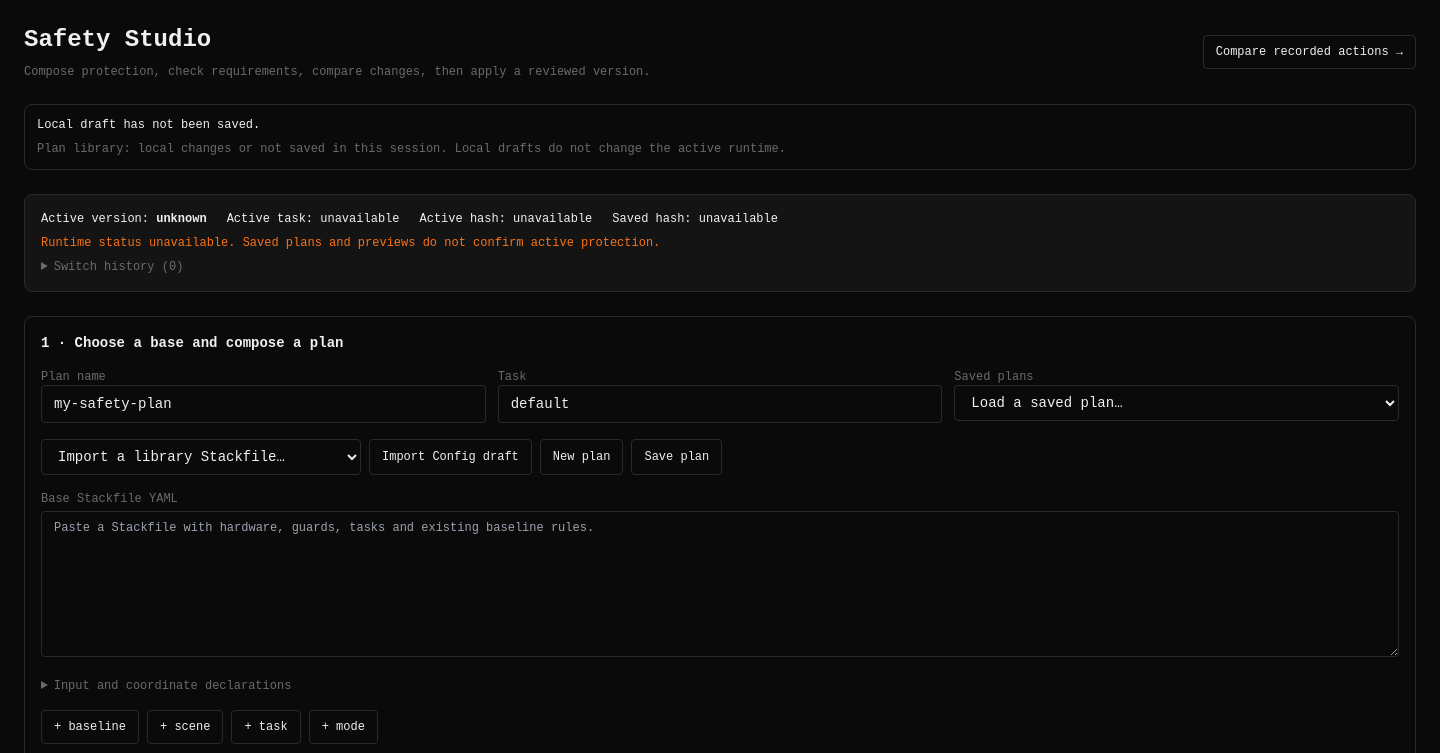
Test case: storage failures preserve in-memory edits and retry saves the latest version
Replace the text in the text box labelled "Base Stackfile YAML" with "version: \"1\"" at (720, 584), box x1=41 y1=511 x2=1399 y2=657
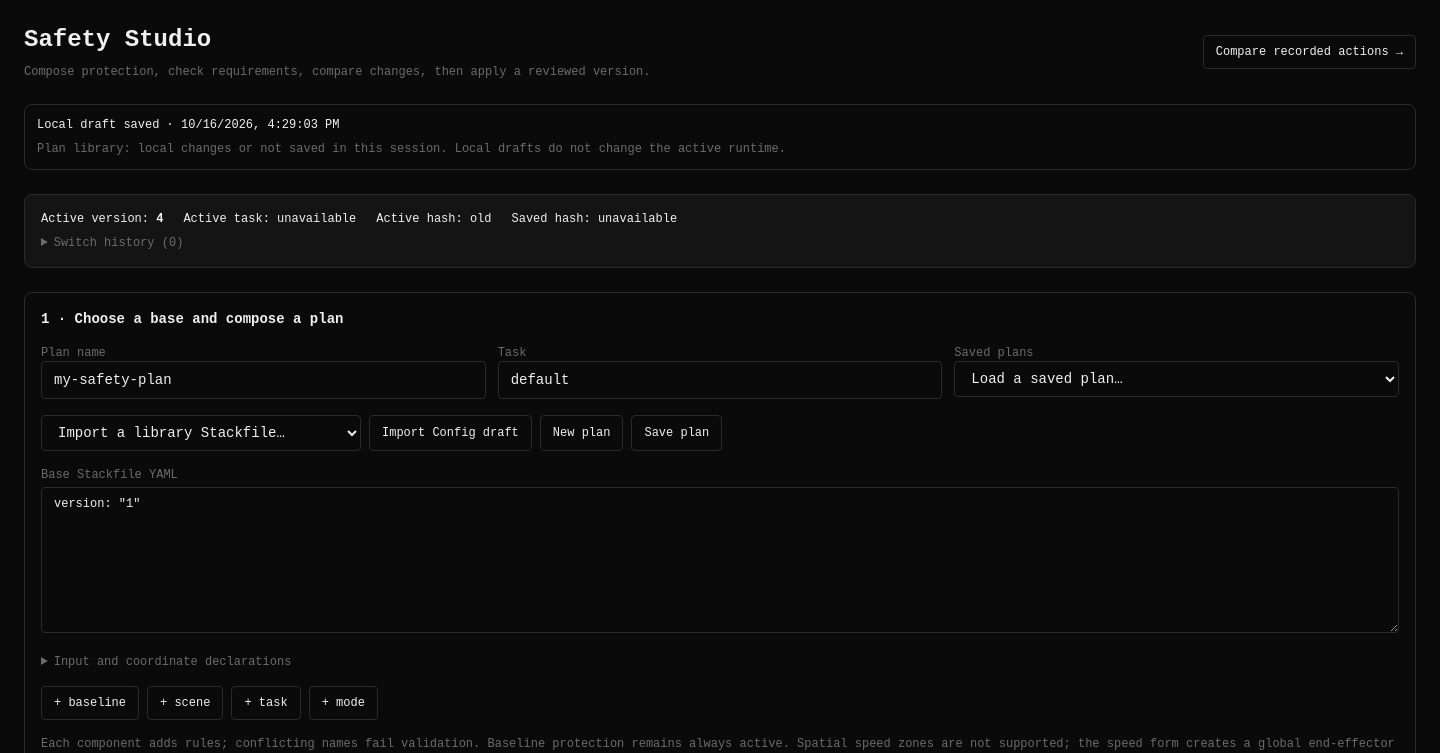
Replace the text in the field labelled "Task" with "still-editable" at (720, 380), box x1=498 y1=361 x2=942 y2=399
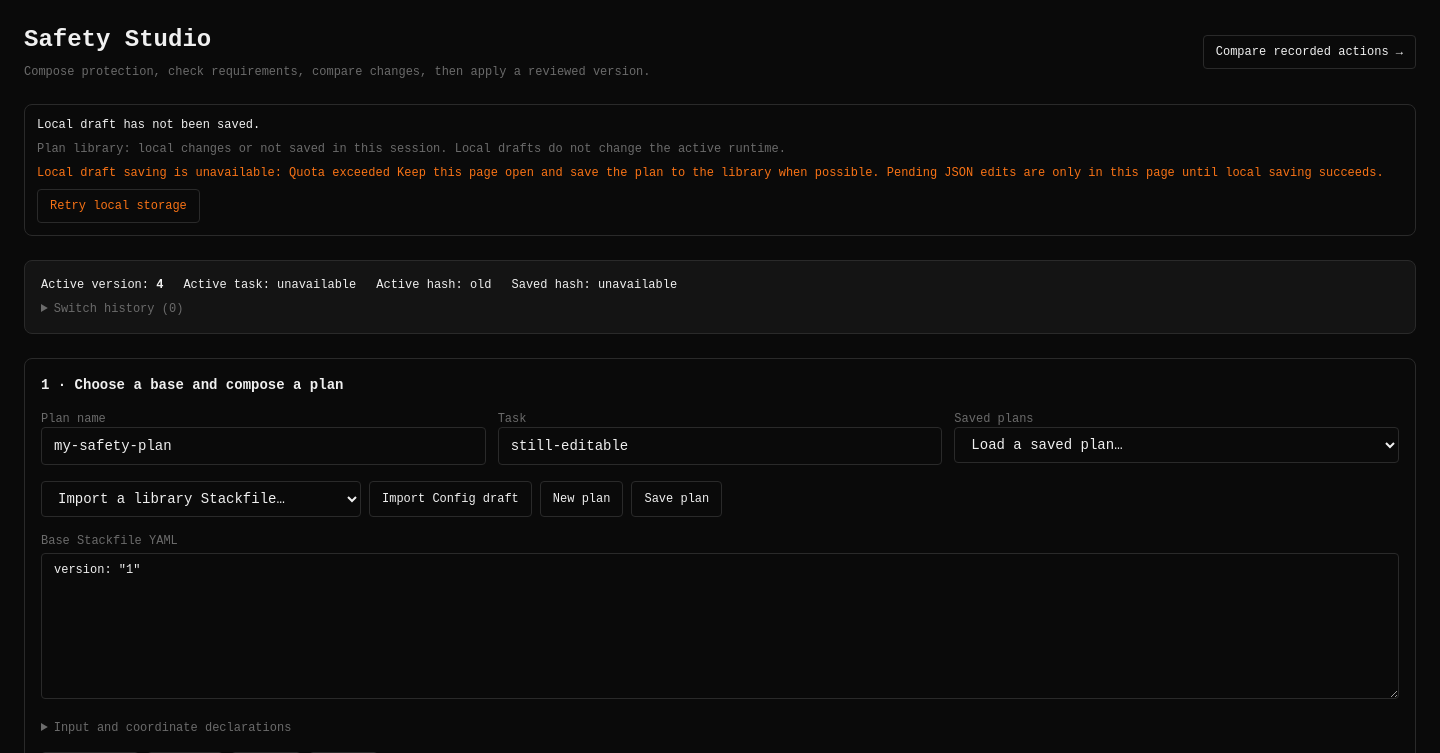
Expected: the message shows "Local draft saving is unavailable", x1=37 y1=166 x2=1384 y2=180
Click the button "Retry local storage".
click(118, 206)  # box x1=37 y1=189 x2=200 y2=223
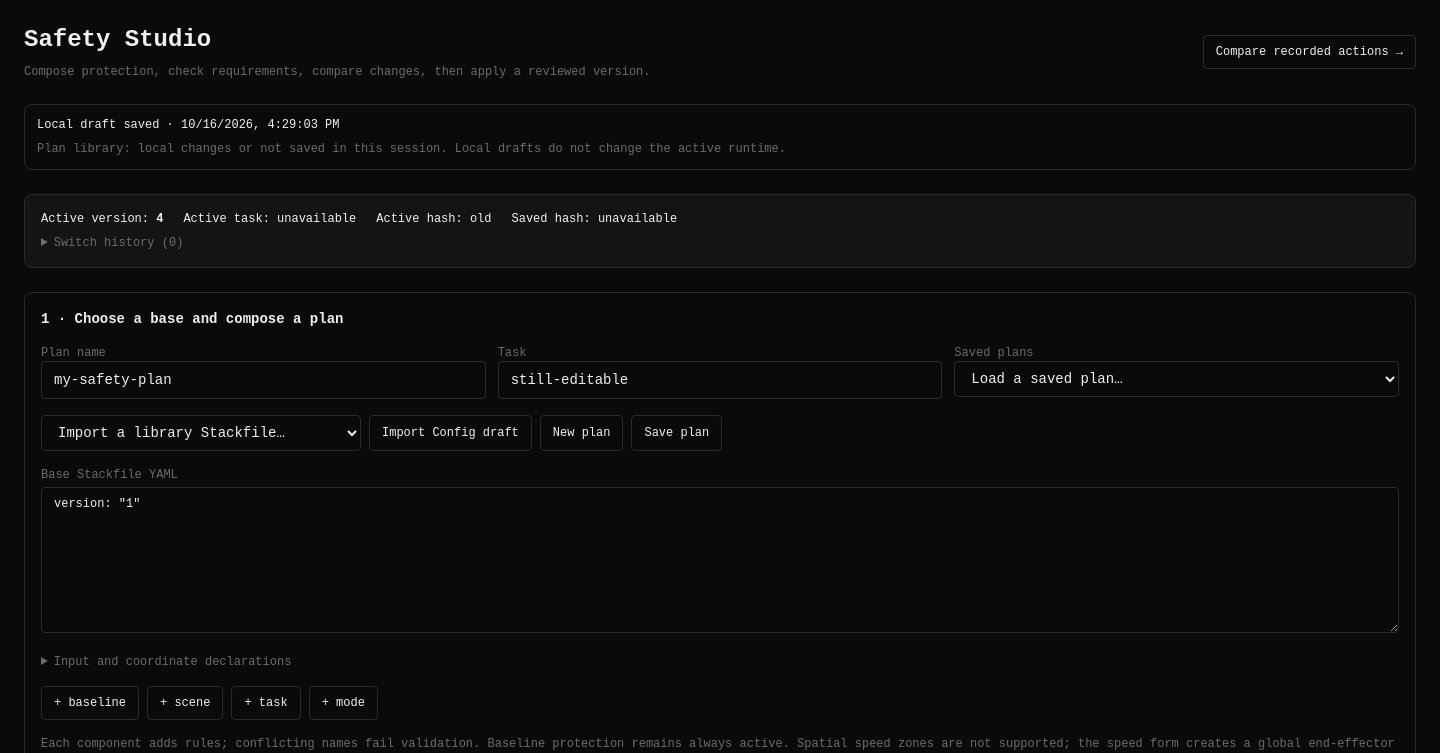
Expected: the text "Local draft saving is unavailable" is gone
